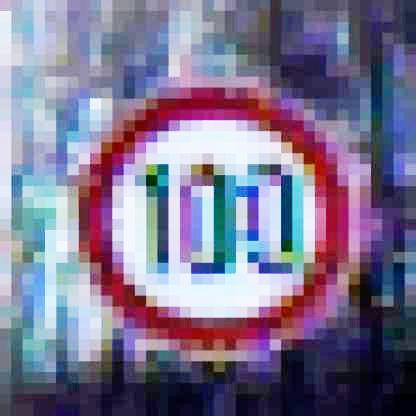Speed Limit -100-: (75, 79, 364, 363)
